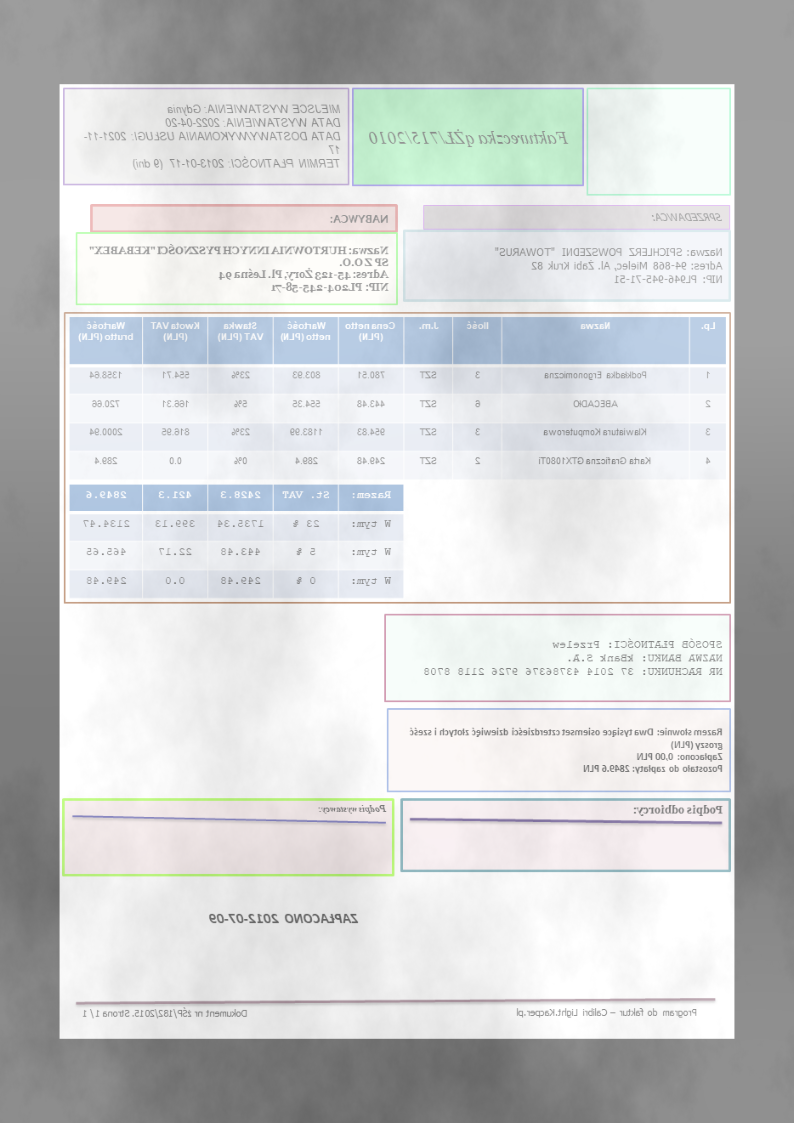Table: (71, 314, 728, 481), (68, 482, 405, 600)
TextBox: (82, 100, 343, 174), (408, 723, 725, 776), (85, 242, 392, 294), (422, 636, 725, 680), (492, 241, 726, 288), (367, 126, 573, 149), (515, 1004, 700, 1021), (207, 909, 360, 927), (80, 1005, 249, 1021), (632, 800, 726, 819), (652, 208, 724, 224), (318, 799, 389, 815), (330, 211, 392, 227)
